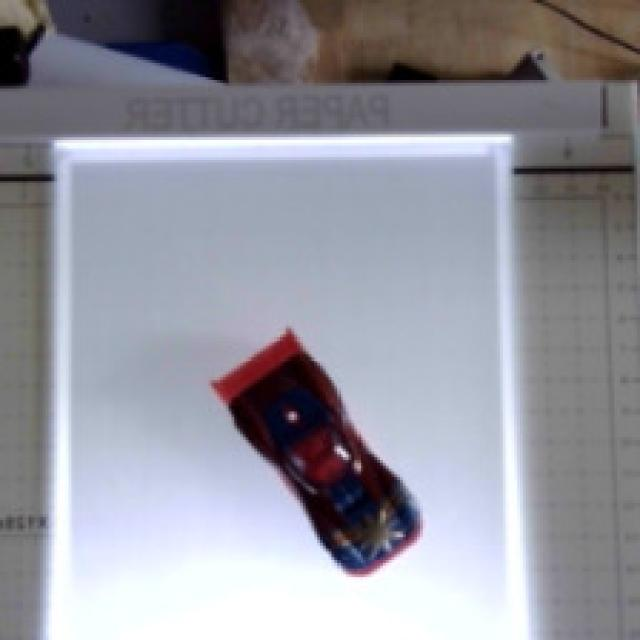Red Car: (171, 306, 475, 613)
